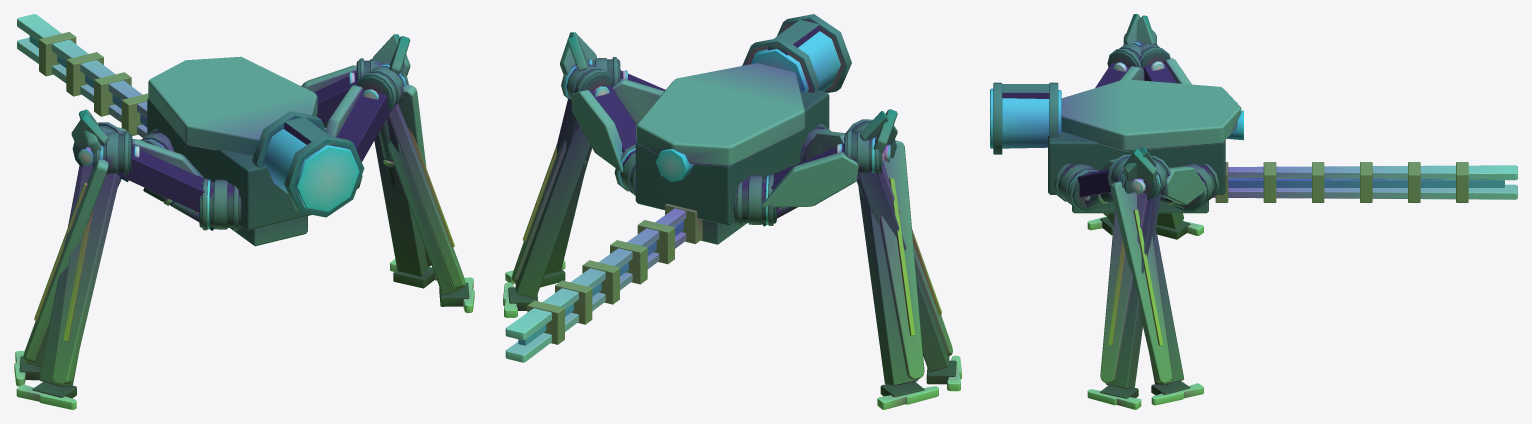
Rendered from lancer.glb.
The picture shows the model from 3 angles, left to right: view 1: azimuth 30°, elevation 25°; view 2: azimuth 150°, elevation 25°; view 3: azimuth 270°, elevation 25°; orthographic projection. The views are drawn at different scales.
Parts seen in each view (by area): view 1: Body__armor, Body__dark, Hip_0_Knee__armor, SacMain__emit_core, Hip_3_Knee__gunmetal, Hip_2__dark, Gun__chrome, Gun__copper, Hip_1_Knee__armor, Body__gunmetal, Hip_2_Knee__armor, Hip_1_Knee__gunmetal (+22 smaller); view 2: Body__armor, Body__dark, Gun__copper, Gun__chrome, Hip_2_Knee__armor, Hip_3_Knee__gunmetal, Hip_2_Knee__gunmetal, Hip_0_Knee__gunmetal, Hip_0__armor, SacMain__emit_core, Hip_1_Knee__gunmetal, Body__gunmetal (+25 smaller); view 3: Body__armor, Gun__chrome, Hip_3_Knee__armor, Body__dark, Gun__copper, Hip_1_Knee__armor, Hip_1_Knee__gunmetal, SacMain__emit_core, Gun_GunGlow__emit_core, Hip_3_Knee__gunmetal, Body__gunmetal, Hip_1__armor (+15 smaller).
Part boxes in pixels (x1,y1,x2,y2): Body__armor: [148, 56, 317, 155]; Body__dark: [147, 98, 311, 230]; Hip_0_Knee__armor: [52, 164, 120, 384]; SacMain__emit_core: [263, 129, 359, 211]; Hip_3_Knee__gunmetal: [356, 63, 429, 276]; Hip_2__dark: [118, 146, 241, 230]; Gun__chrome: [17, 14, 147, 137]; Gun__copper: [39, 32, 148, 135]; Hip_1_Knee__armor: [388, 103, 465, 289]; Body__gunmetal: [252, 111, 364, 217]; Hip_2_Knee__armor: [23, 159, 108, 362]; Hip_1_Knee__gunmetal: [359, 58, 461, 294]; Body__armor: [636, 63, 805, 165]; Body__dark: [635, 90, 829, 225]; Gun__copper: [527, 203, 702, 344]; Gun__chrome: [505, 208, 686, 362]; Hip_2_Knee__armor: [880, 140, 924, 379]; Hip_3_Knee__gunmetal: [515, 57, 618, 298]; Hip_2_Knee__gunmetal: [844, 119, 918, 385]; Hip_0_Knee__gunmetal: [846, 130, 949, 371]; Hip_0__armor: [761, 152, 858, 207]; SacMain__emit_core: [750, 28, 840, 92]; Hip_1_Knee__gunmetal: [544, 64, 613, 274]; Body__gunmetal: [742, 14, 851, 92]; Body__armor: [1061, 79, 1241, 151]; Gun__chrome: [1212, 165, 1517, 199]; Hip_3_Knee__armor: [1110, 181, 1172, 383]; Body__dark: [1048, 131, 1225, 194]; Gun__copper: [1215, 162, 1468, 202]; Hip_1_Knee__armor: [1100, 193, 1147, 383]; Hip_1_Knee__gunmetal: [1105, 156, 1170, 388]; SacMain__emit_core: [990, 88, 1061, 148]; Gun_GunGlow__emit_core: [1228, 178, 1504, 187]; Hip_3_Knee__gunmetal: [1107, 154, 1183, 385]; Body__gunmetal: [993, 82, 1058, 154]; Hip_1__armor: [1161, 166, 1207, 204].
Size of the model in its own units: 2.48 by 1.38 by 2.85.
